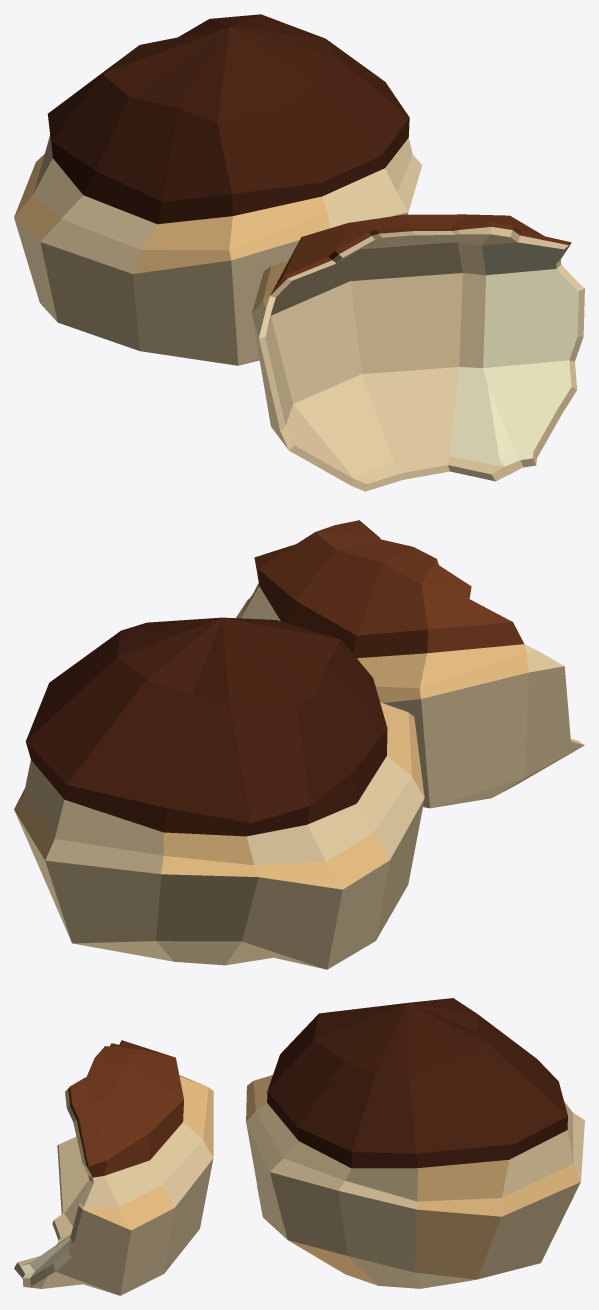
File: ProfiteroleState3.fbx
3 views of the same model, one above another, from view 1: azimuth 30°, elevation 25°; view 2: azimuth 150°, elevation 25°; view 3: azimuth 270°, elevation 25° (orthographic). The views are drawn at different scales.
Visible parts, largest first — view 1: ProfiteroleState3; view 2: ProfiteroleState3; view 3: ProfiteroleState3.
Part boxes in pixels (box(x1,y1,x2,y2)): ProfiteroleState3: box(14, 14, 584, 491); ProfiteroleState3: box(14, 520, 584, 969); ProfiteroleState3: box(14, 998, 584, 1295).
Bounding box in the file's own units: 45.38 × 37.69 × 77.14.
